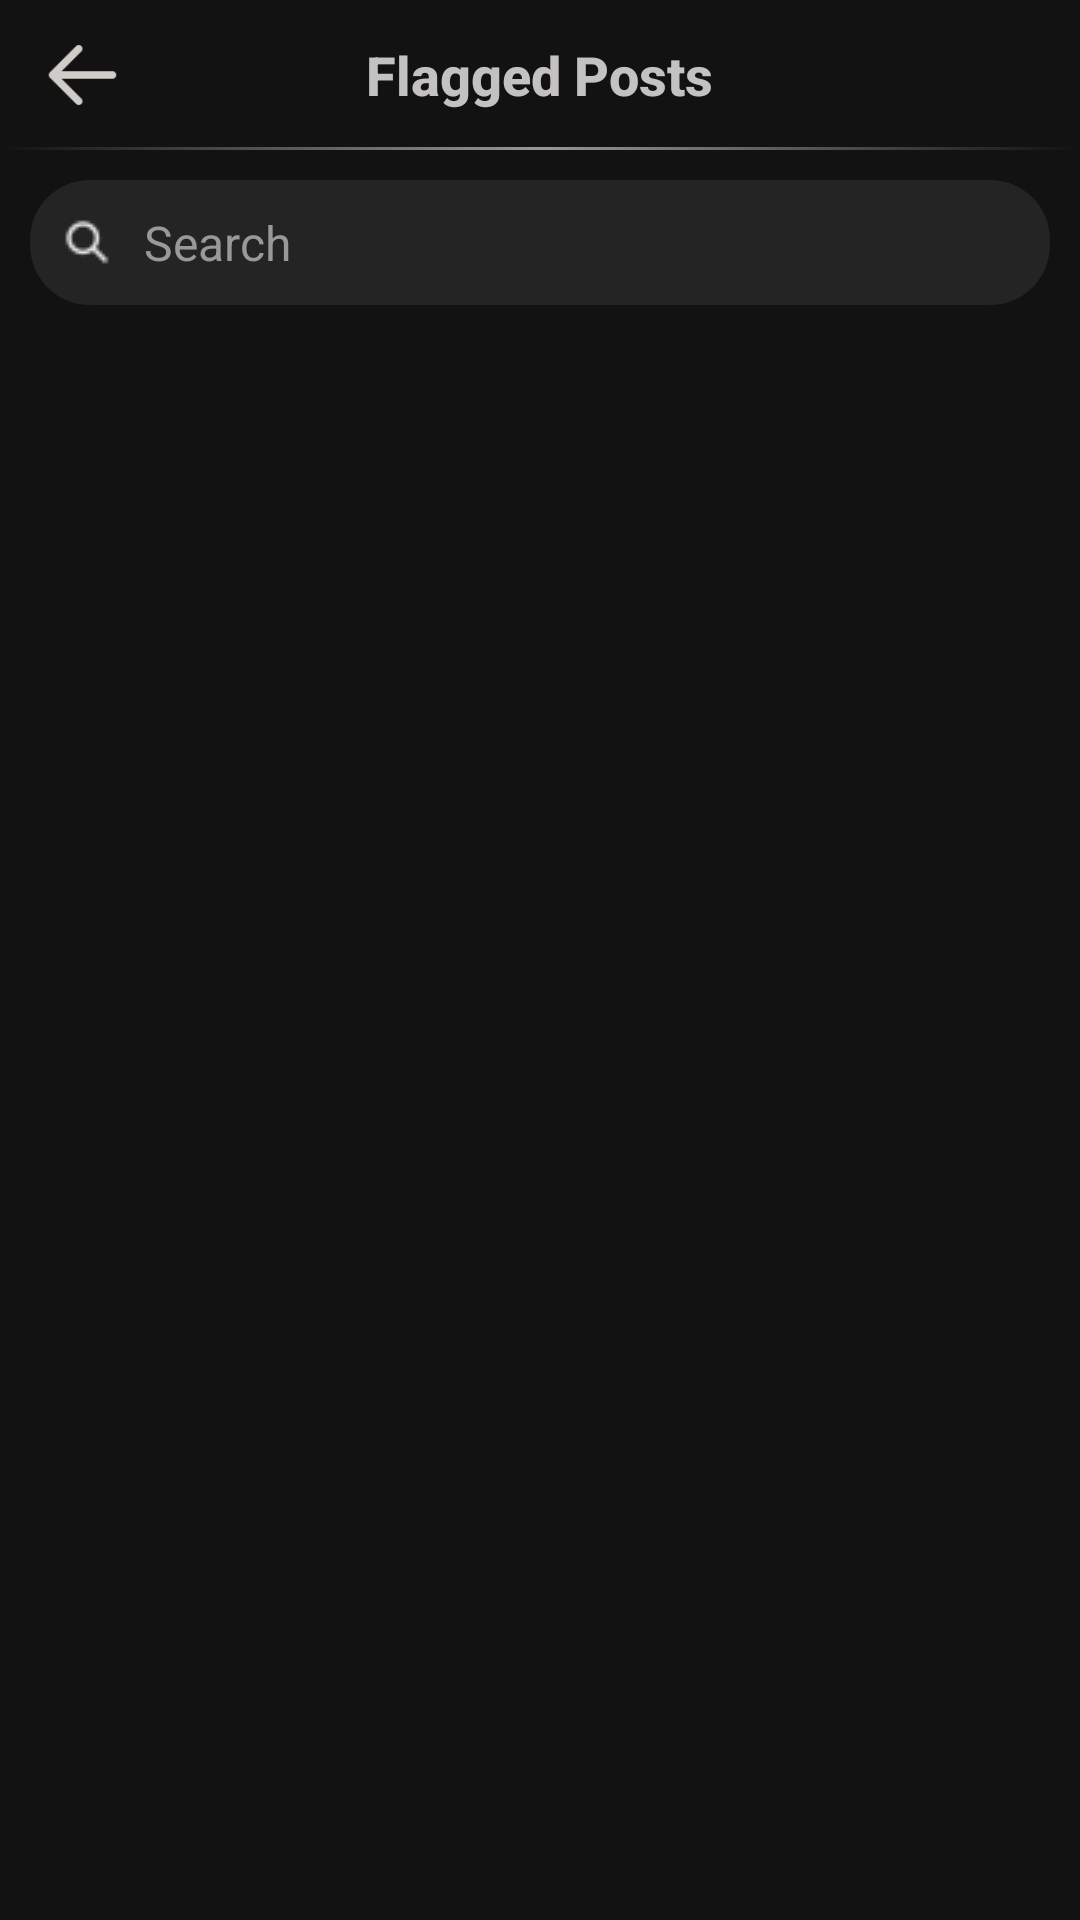

Icons on this 1080x1920 Android screen, each with its box as (x1=x1, y1=y1, x2=x2, y2=y2):
windows back: (x1=48, y1=45, x2=117, y2=105)
